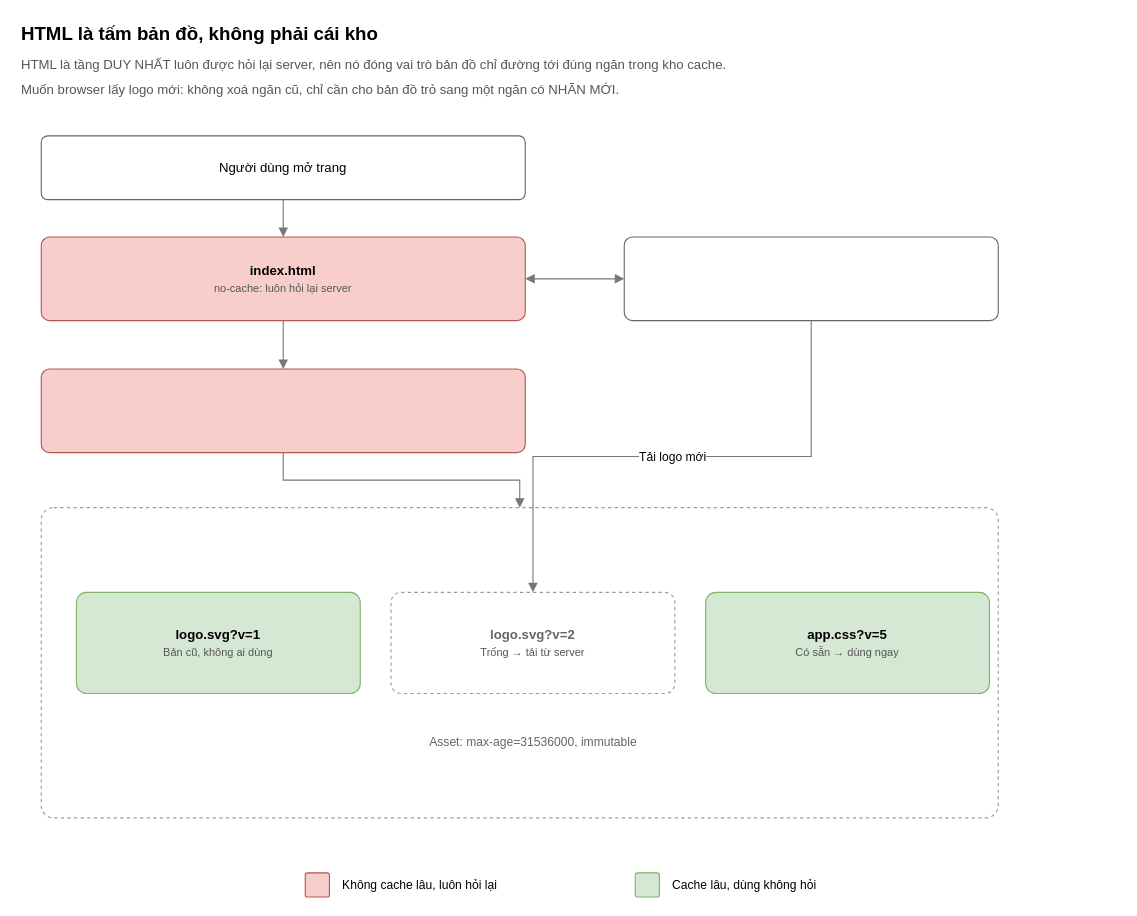
This 1137x916 diagram has some shape labels left out. Each missing label, with the box of its shape:
HTML trỏ tới logo.svg?v=2 Đổi version mỗi khi thay logo: (40, 368, 525, 453)
Kho cache của browser (tra theo URL): (40, 507, 998, 818)
Server / CDN Trả HTML (200 hoặc 304): (623, 236, 998, 321)
